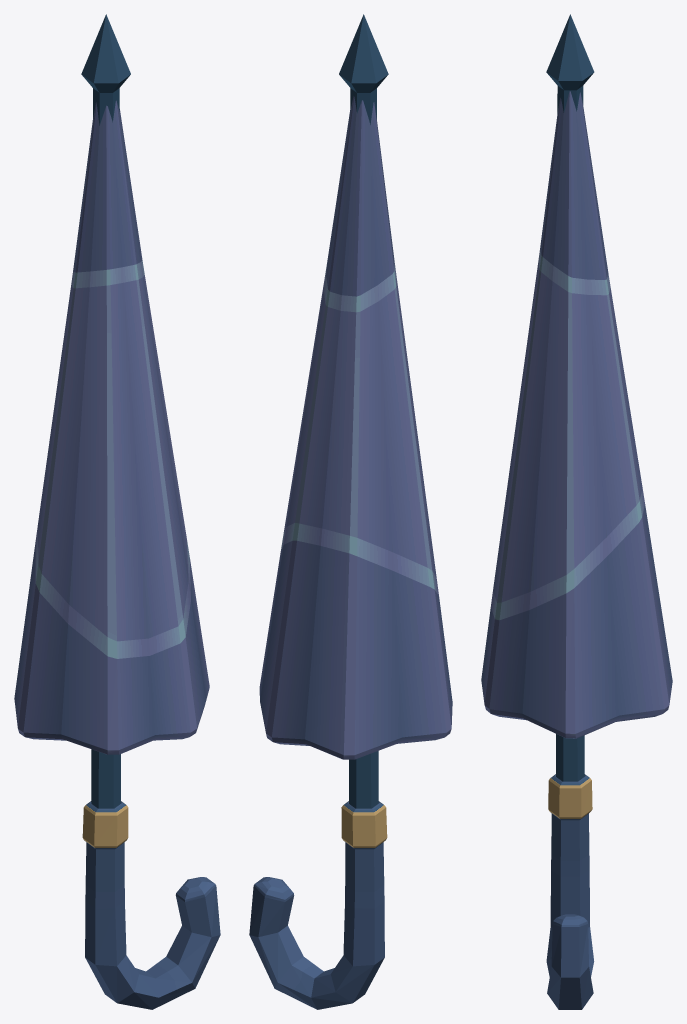
Rendered from CharSkyKid_Prop_AP03Umbrella_01.glb.
The picture shows the model from 3 angles, left to right: view 1: azimuth 30°, elevation 25°; view 2: azimuth 150°, elevation 25°; view 3: azimuth 270°, elevation 25°; orthographic projection. The views are drawn at different scales.
Visible parts, largest first — view 1: CharSkyKid_Prop_AP03Umbrella_01; view 2: CharSkyKid_Prop_AP03Umbrella_01; view 3: CharSkyKid_Prop_AP03Umbrella_01.
Boxes of the visible parts, x1,y1,x2,y2 form: CharSkyKid_Prop_AP03Umbrella_01: (14, 14, 220, 1009); CharSkyKid_Prop_AP03Umbrella_01: (249, 14, 452, 1009); CharSkyKid_Prop_AP03Umbrella_01: (481, 14, 672, 1009).
Size of the model in its own units: 2.05 by 10.04 by 1.8.
Materials: 1 (1 with a texture image).
